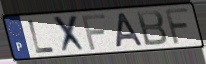A: (115, 12, 146, 49)
B: (135, 9, 169, 48)
F: (80, 13, 108, 52), (163, 7, 191, 46)
L: (26, 18, 56, 55)
X: (52, 13, 89, 55)
